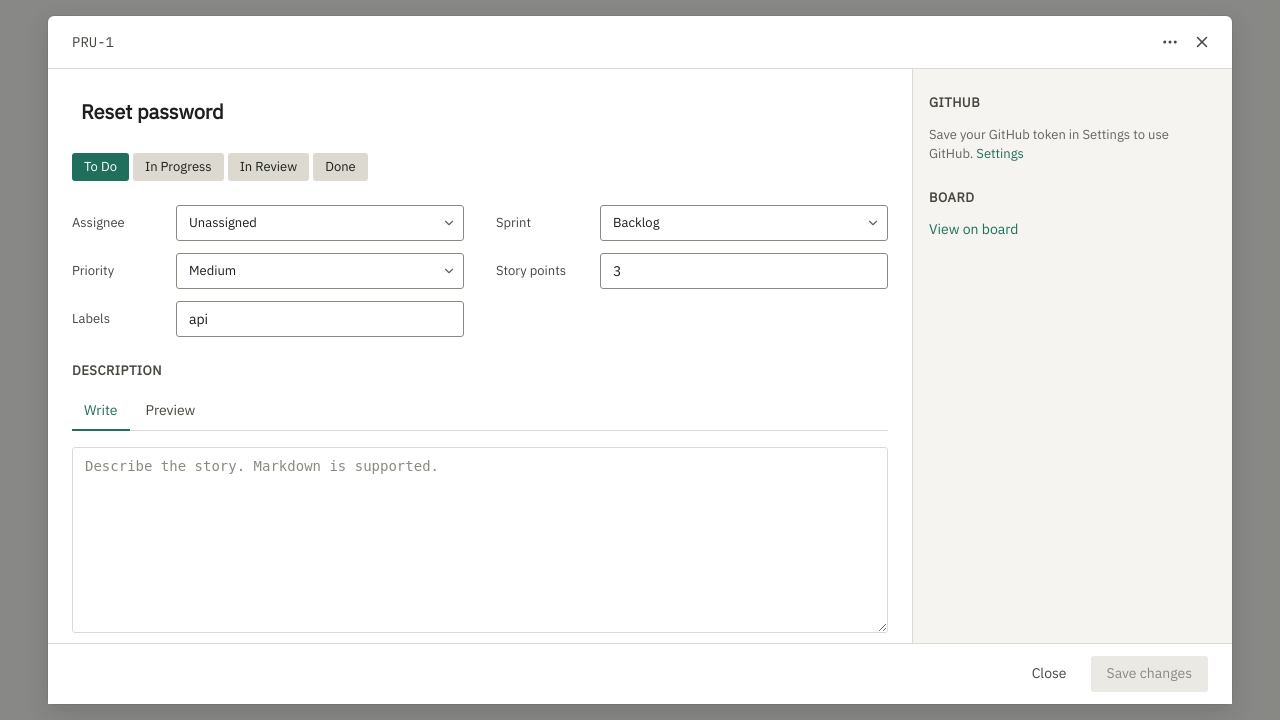
Test: StoryDrawer › keeps the drawer open and explains when the delete is refused
Click the button named "More actions" at point(1170, 42), box [1156, 28, 1184, 56]
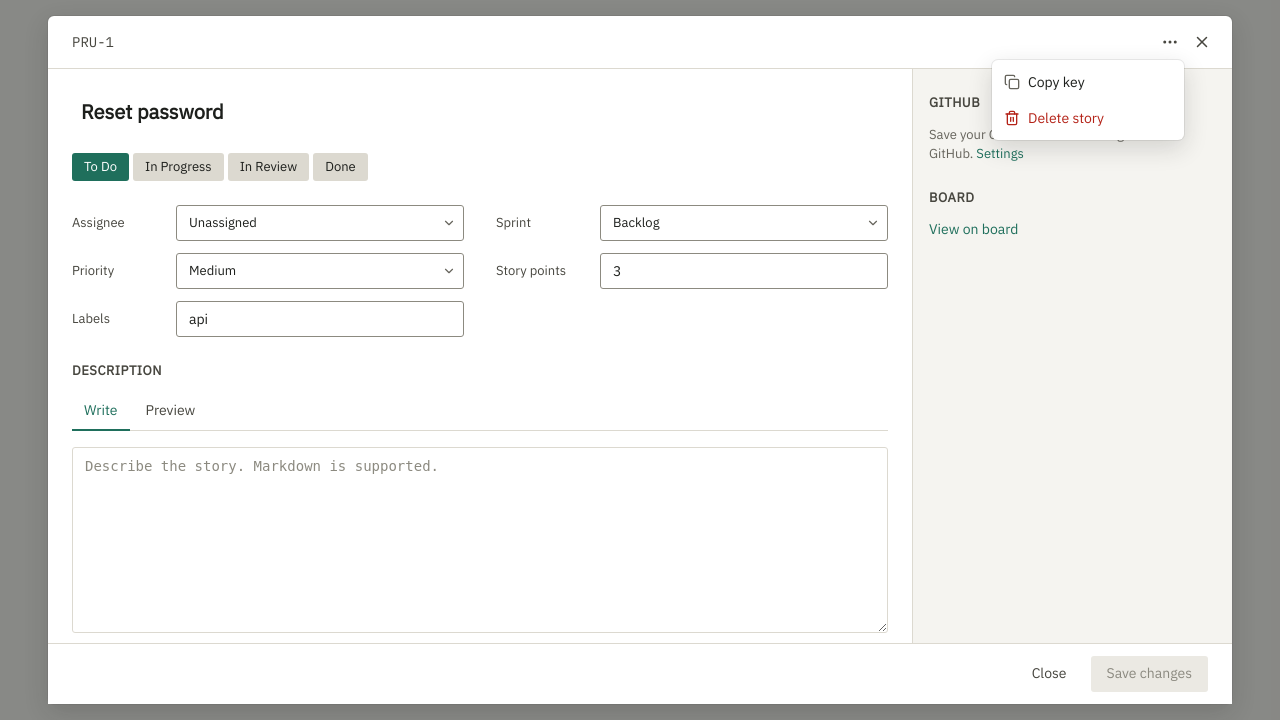
Click the menu item "Delete story" at point(1054, 118), box [1004, 108, 1104, 126]
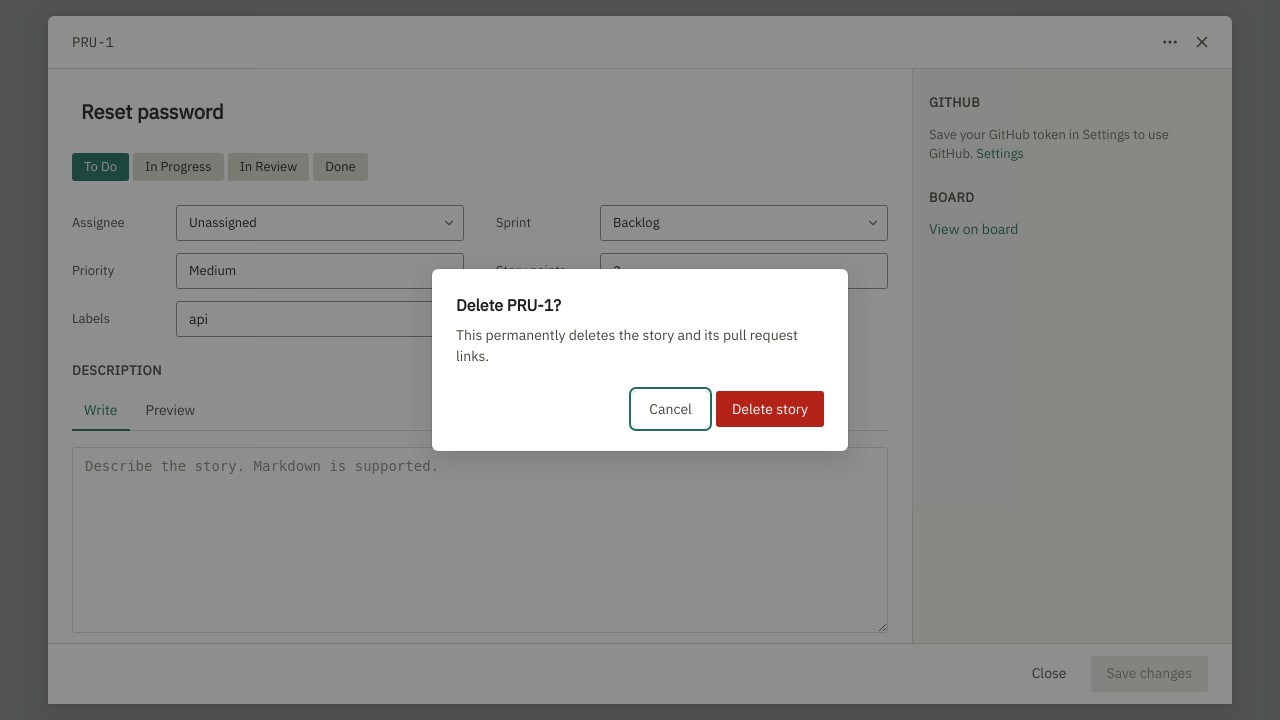
Click the button "Delete story" at point(770, 409), box [716, 391, 824, 427]
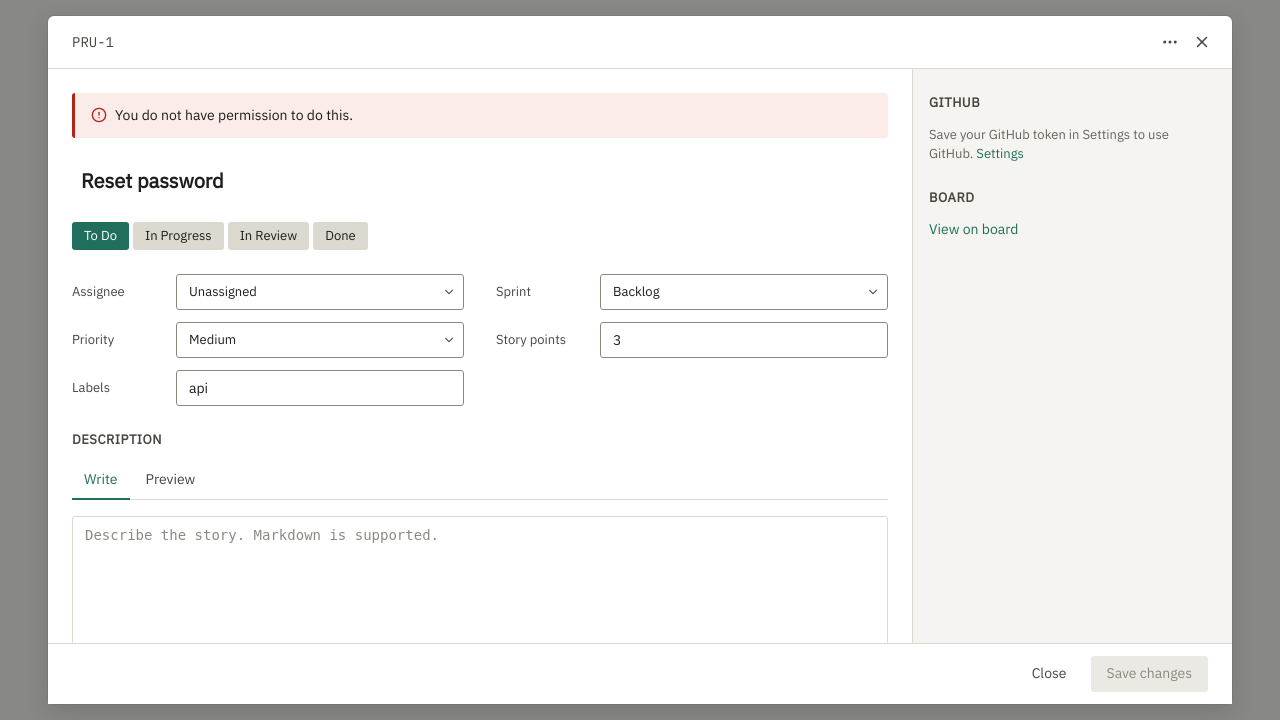
Now the text "You do not have permission to do this." is shown, box [115, 105, 353, 126]
